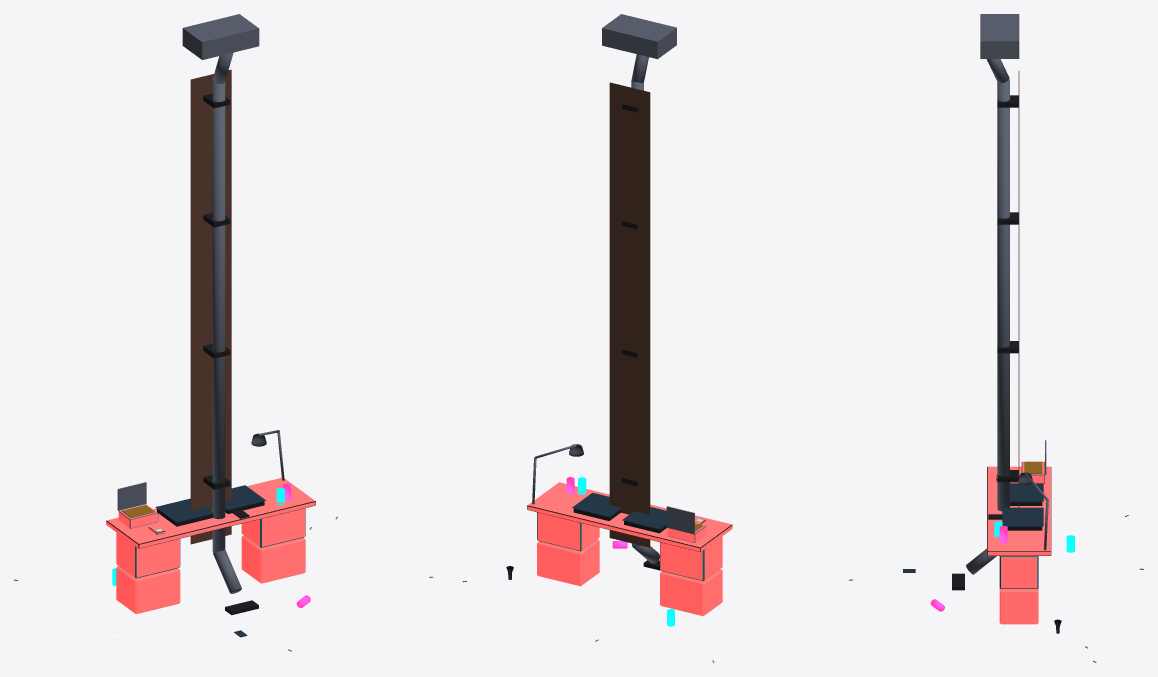
Rendered from room-detail-grodzka-props.glb.
3 views of the same model, side by side, from view 1: azimuth 30°, elevation 25°; view 2: azimuth 150°, elevation 25°; view 3: azimuth 270°, elevation 25° (orthographic). The views are drawn at different scales.
Parts seen in each view (by area): view 1: rd-gr-downpipe, rd-gr-chips; view 2: rd-gr-downpipe, rd-gr-chips; view 3: rd-gr-downpipe, rd-gr-chips, rd-gr-litter.
Part boxes in pixels (x1,y1,x2,y2): rd-gr-downpipe: (182, 14, 259, 615); rd-gr-chips: (106, 430, 315, 613); rd-gr-downpipe: (602, 14, 676, 570); rd-gr-chips: (527, 444, 732, 616); rd-gr-downpipe: (952, 14, 1019, 590); rd-gr-chips: (987, 440, 1051, 624); rd-gr-litter: (849, 498, 1143, 662).
Size of the model in its own units: 3 by 4.75 by 2.28.
Materials: 1 (1 with a texture image).
